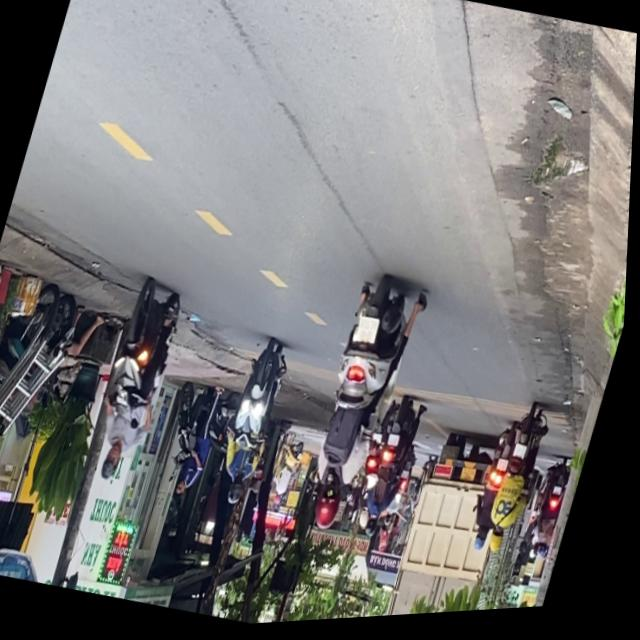helmet: (313, 484, 349, 536), (100, 444, 127, 484), (227, 480, 248, 510)
licenseplate: (291, 269, 433, 546), (81, 273, 195, 492), (210, 337, 298, 514)
nohelmet: (354, 318, 383, 350)
